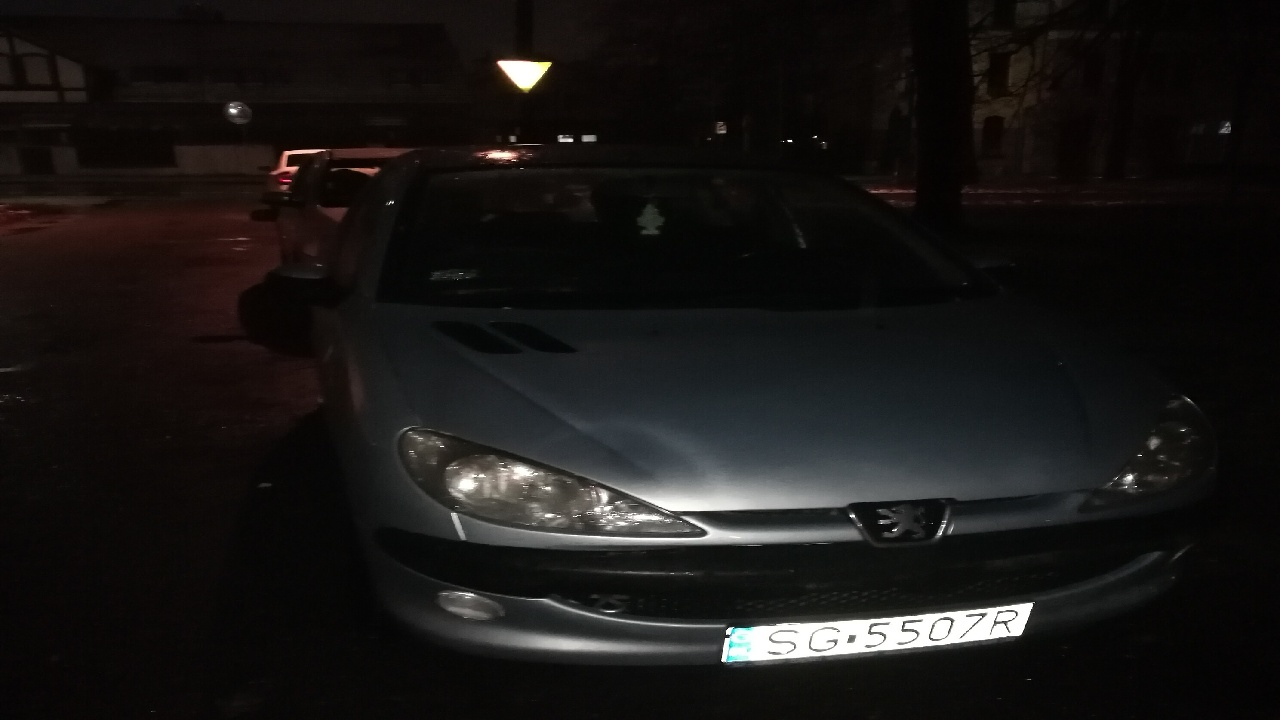A7: (494, 57, 553, 97)
